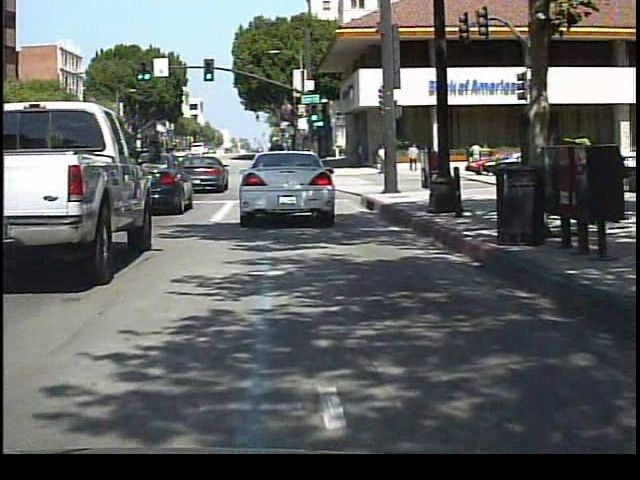person: (467, 138, 486, 172), (406, 142, 424, 174), (376, 140, 391, 175)
